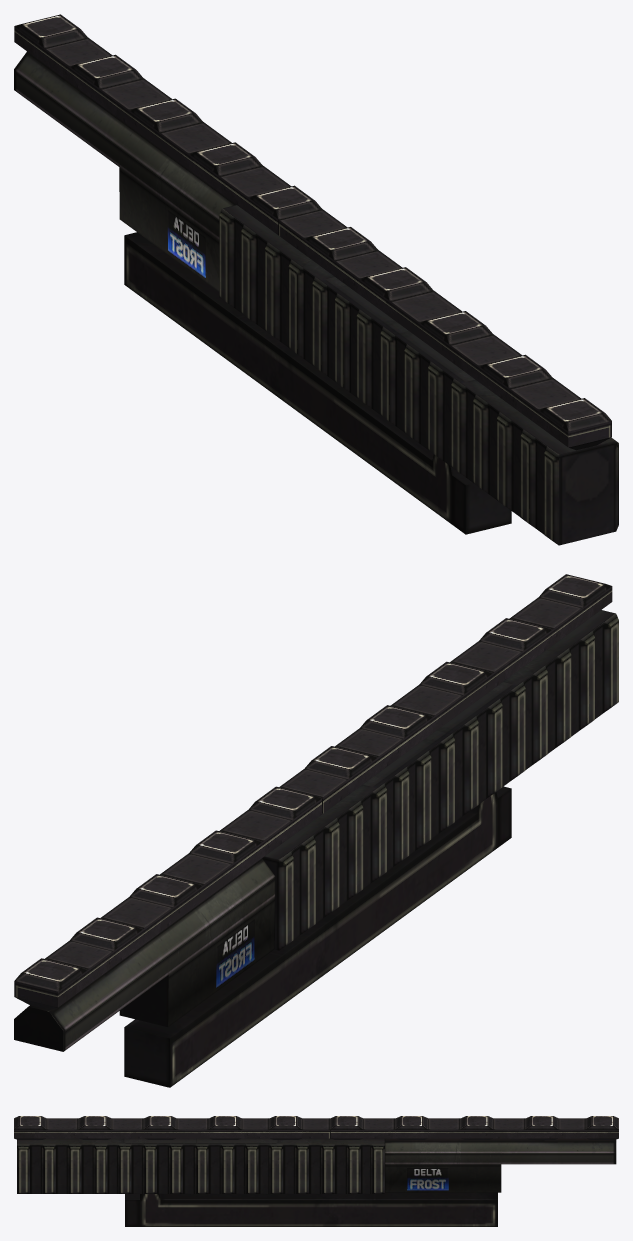
Rendered from SniperRifle_Warfare_Barrel_3.FBX.
The picture shows the model from 3 angles, top to bottom: view 1: azimuth 30°, elevation 25°; view 2: azimuth 150°, elevation 25°; view 3: azimuth 270°, elevation 25°; orthographic projection. The views are drawn at different scales.
Parts seen in each view (by area): view 1: mesh_barrel; view 2: mesh_barrel; view 3: mesh_barrel.
Boxes of the visible parts, bbox=[...] form: mesh_barrel: bbox=[14, 14, 618, 545]; mesh_barrel: bbox=[14, 574, 618, 1087]; mesh_barrel: bbox=[14, 1116, 618, 1226].
Bounding box in the file's own units: 0.0405 × 0.1063 × 0.586.
